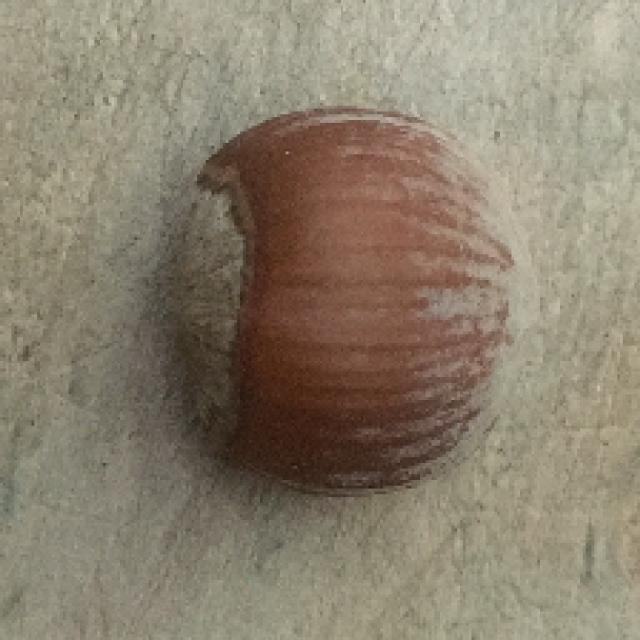qualityHazelnut: (172, 104, 526, 501)
